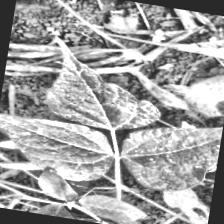ALS: (37, 32, 165, 134), (106, 97, 224, 189), (0, 109, 110, 183)
